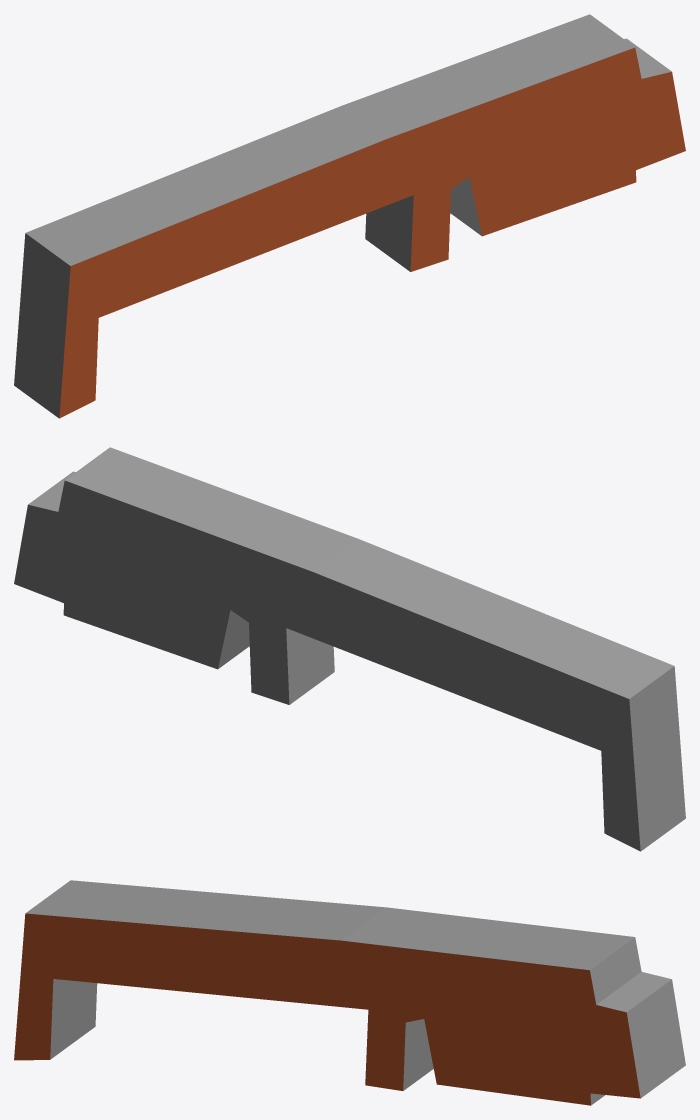
The model's file is construction_0560_assumed_A_Casa_h6m.obj.
3 views of the same model, one above another, from view 1: azimuth 30°, elevation 25°; view 2: azimuth 150°, elevation 25°; view 3: azimuth 330°, elevation 25° (orthographic).
Parts seen in each view (by area): view 1: construction_0560_assumed_A_Casa; view 2: construction_0560_assumed_A_Casa; view 3: construction_0560_assumed_A_Casa.
Part boxes in pixels (x1,y1,x2,y2): construction_0560_assumed_A_Casa: [14, 14, 685, 418]; construction_0560_assumed_A_Casa: [14, 447, 685, 851]; construction_0560_assumed_A_Casa: [14, 880, 685, 1105].
Bounding box in the file's own units: 47.88 × 16.85 × 6.
